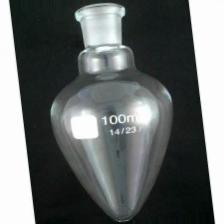Pear shaped flask: (37, 0, 181, 218)
